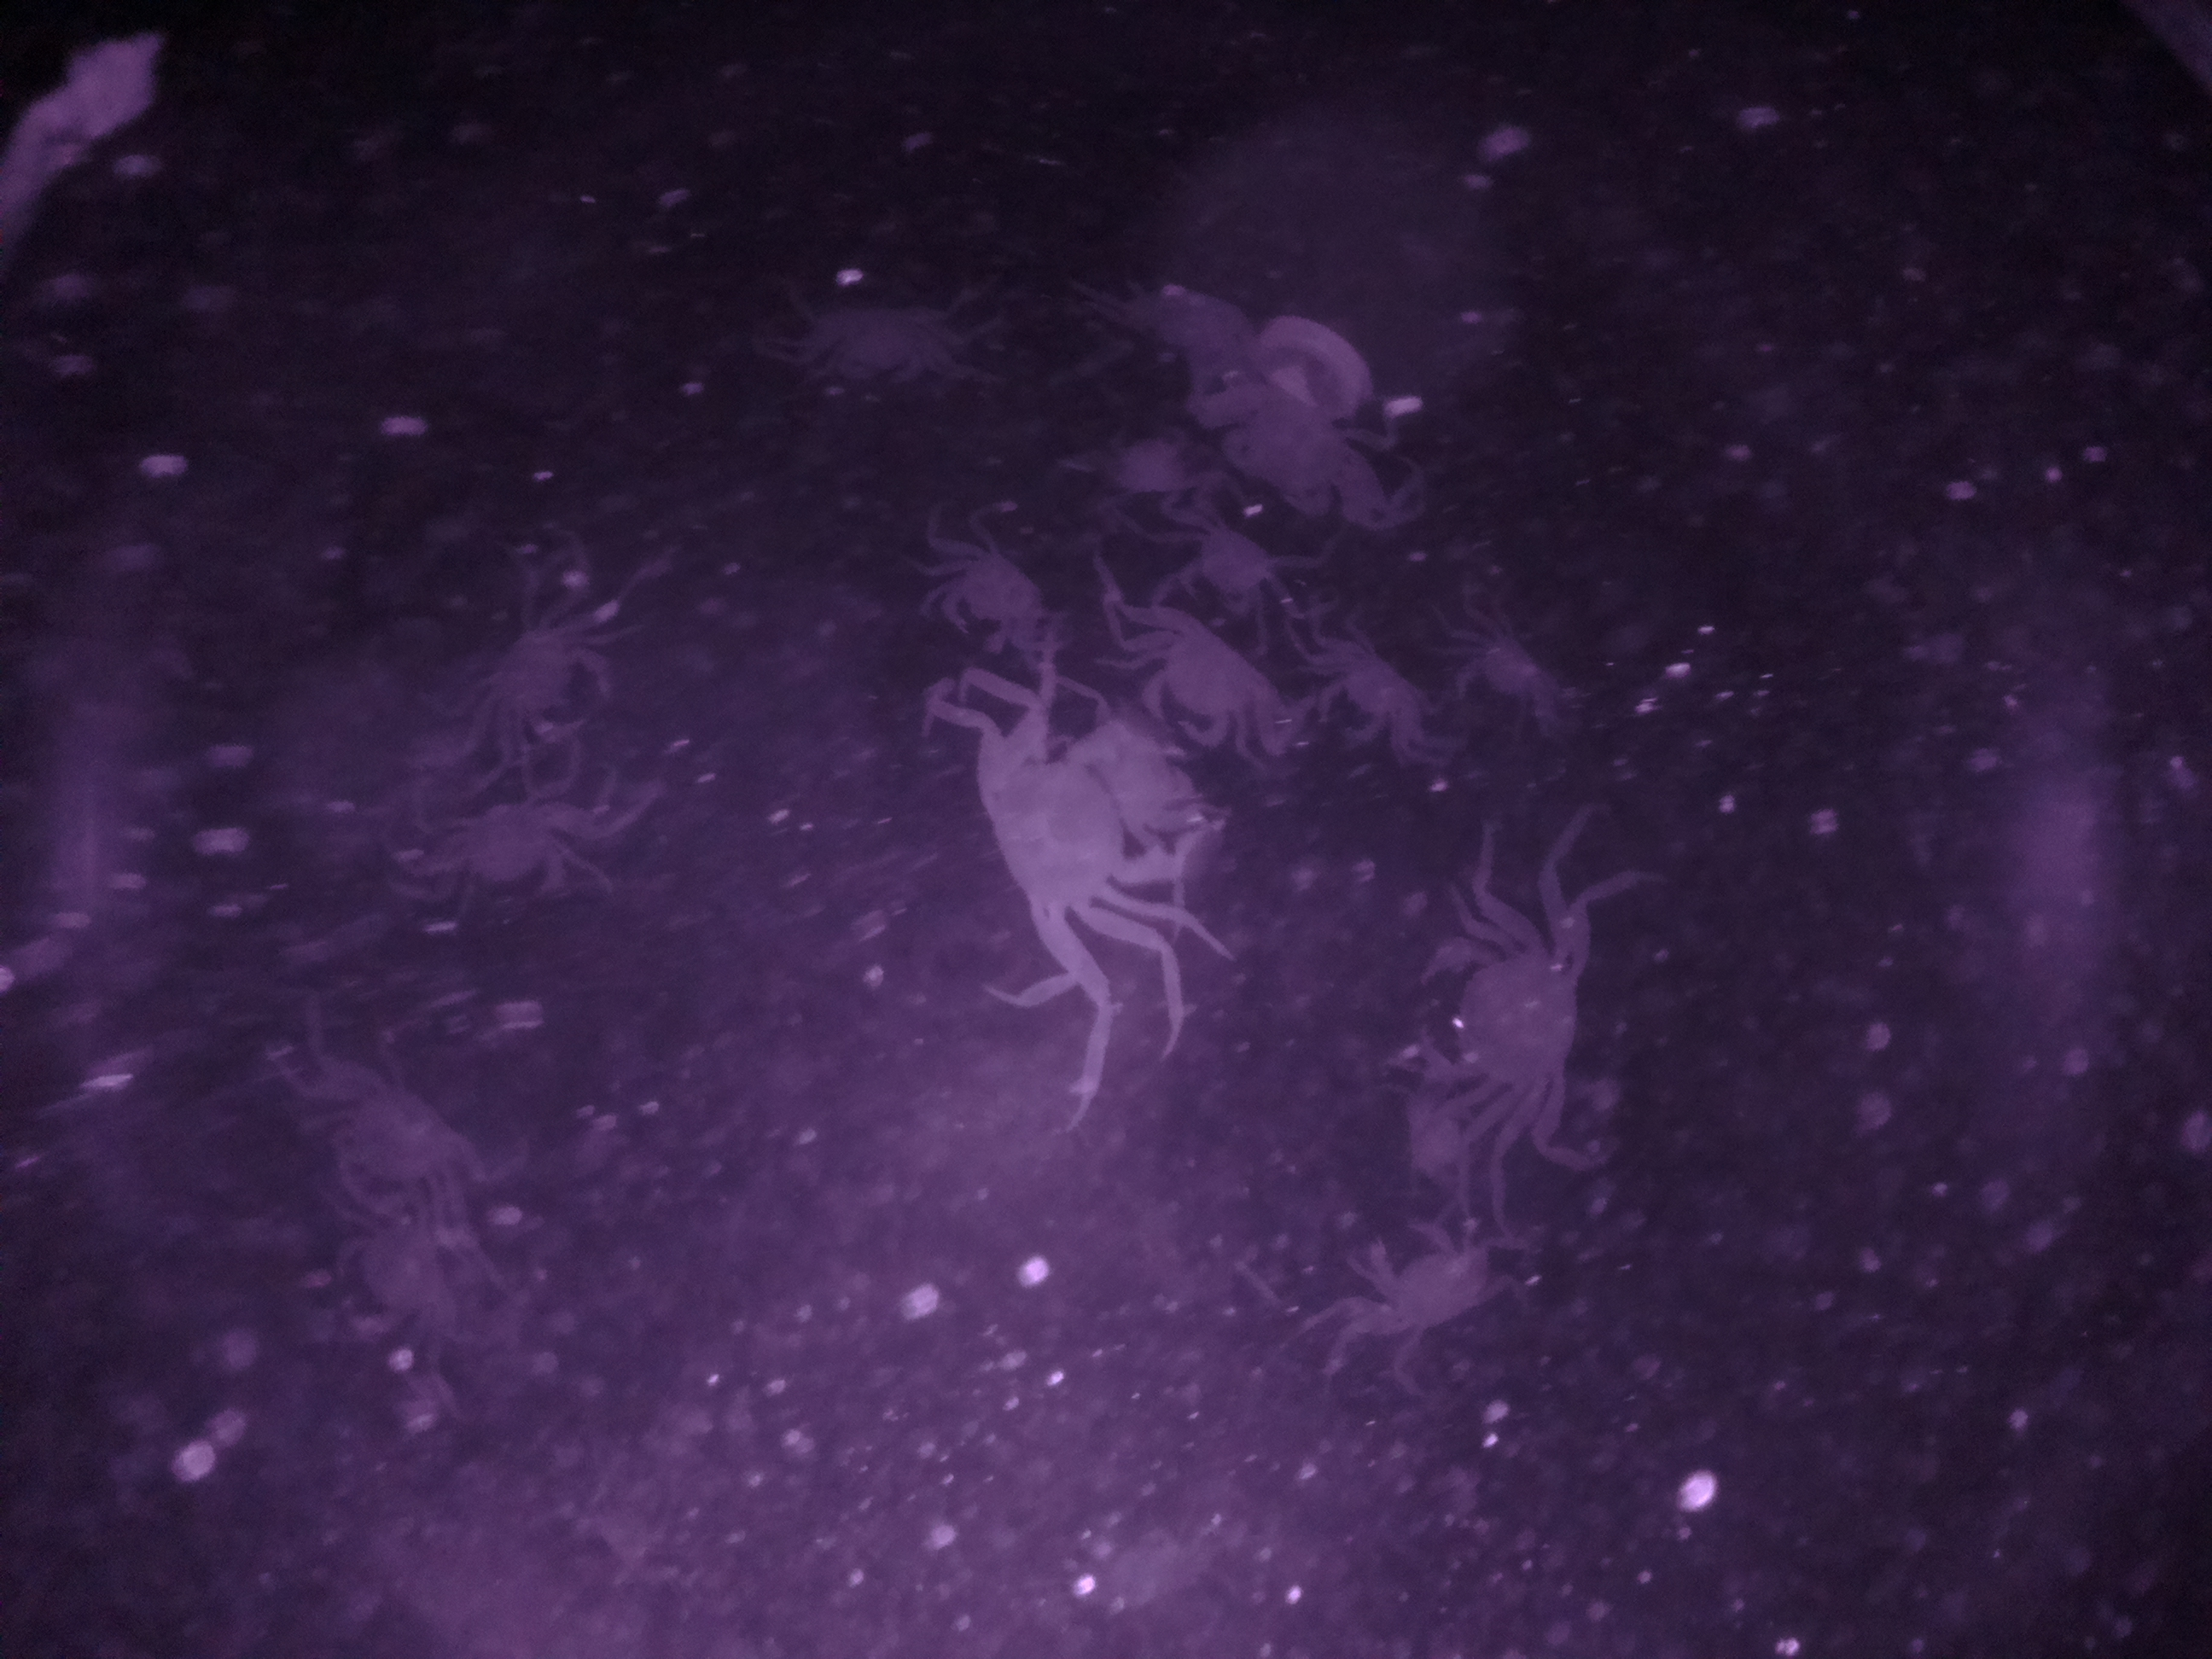Crab: (1393, 903, 1611, 1140), (1285, 603, 1465, 788), (1322, 1202, 1521, 1364), (1122, 596, 1292, 774), (787, 275, 989, 410), (463, 599, 632, 760), (925, 523, 1062, 674)
